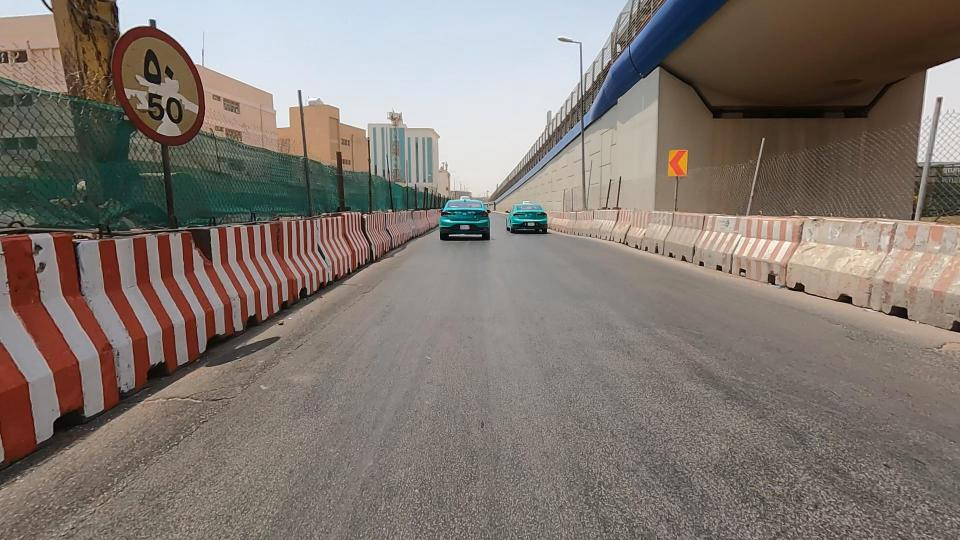CONSTRUCTION_ROAD: (0, 61, 451, 395), (662, 103, 960, 376), (267, 114, 468, 308), (541, 151, 791, 304)
FADED_SIGNAGE: (56, 0, 277, 272)
